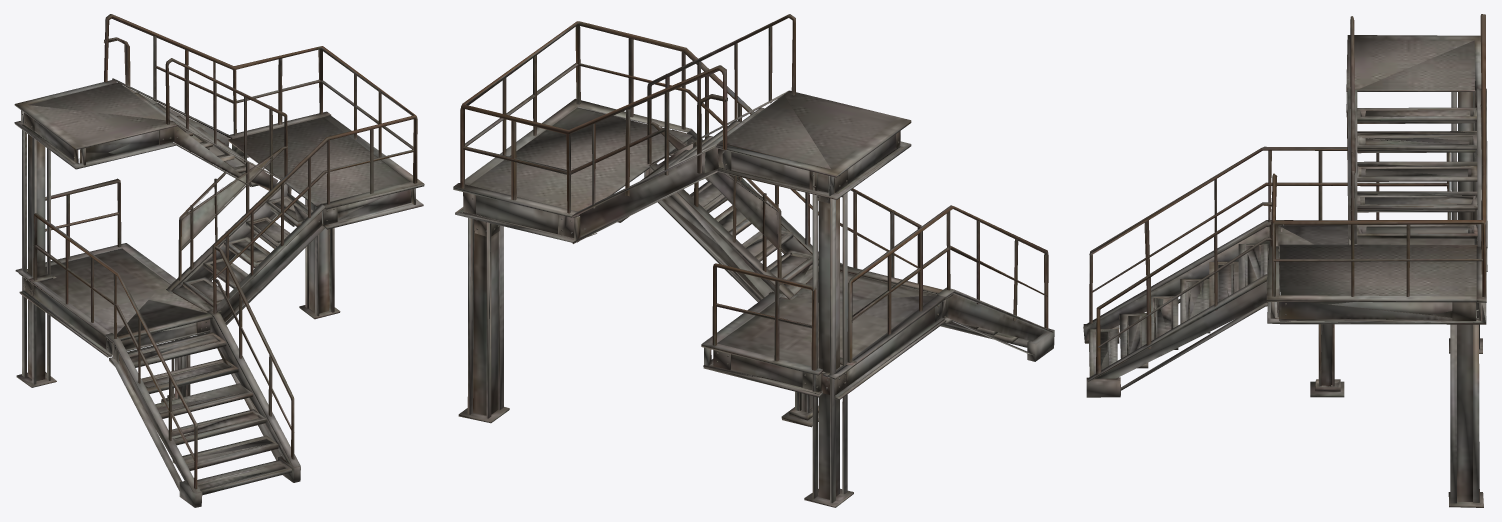
File: k-switchback.glb
The picture shows the model from 3 angles, left to right: view 1: azimuth 30°, elevation 25°; view 2: azimuth 150°, elevation 25°; view 3: azimuth 270°, elevation 25°; orthographic projection. The views are drawn at different scales.
Bounding box in the file's own units: 0.9214 × 0.9536 × 0.9249.
1 material, 1 textured.
